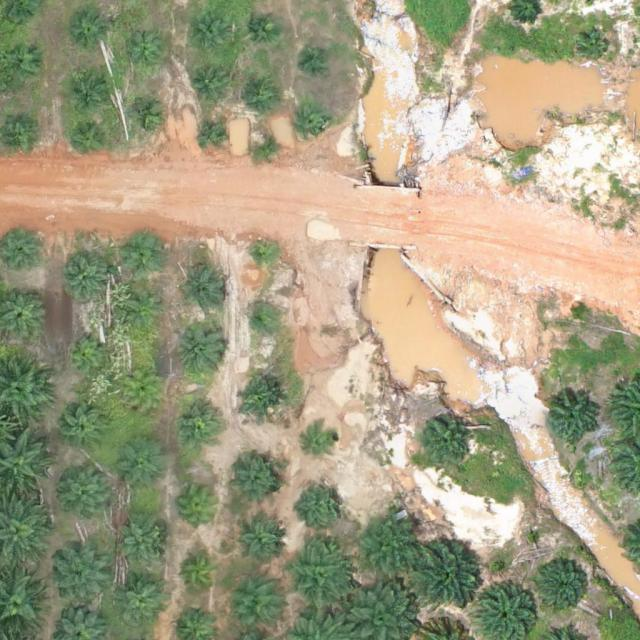Healthy: (408, 534, 486, 613), (354, 511, 424, 582), (286, 543, 356, 613), (222, 578, 285, 640), (114, 577, 169, 632), (58, 468, 113, 523), (55, 550, 110, 605), (60, 251, 115, 306), (546, 393, 601, 448), (537, 558, 592, 613), (113, 519, 167, 574), (179, 325, 226, 373)
Small: (231, 456, 286, 511), (233, 517, 288, 572), (420, 418, 474, 473), (176, 550, 223, 598), (59, 405, 106, 452), (120, 445, 167, 492), (179, 265, 226, 312), (174, 399, 221, 446), (178, 482, 225, 529), (236, 378, 283, 425), (300, 480, 347, 527), (69, 120, 109, 160), (190, 65, 230, 105), (125, 233, 164, 273), (129, 293, 168, 333), (126, 35, 165, 75), (244, 75, 284, 114), (244, 9, 283, 49), (190, 15, 229, 54), (72, 72, 111, 111), (66, 335, 105, 374), (70, 12, 109, 51), (129, 97, 168, 136), (303, 423, 342, 462), (199, 119, 230, 151), (253, 132, 284, 164), (297, 111, 328, 142), (303, 45, 334, 76), (248, 241, 279, 272), (246, 308, 277, 339), (580, 35, 611, 66)
Yellow: (122, 372, 162, 412)
